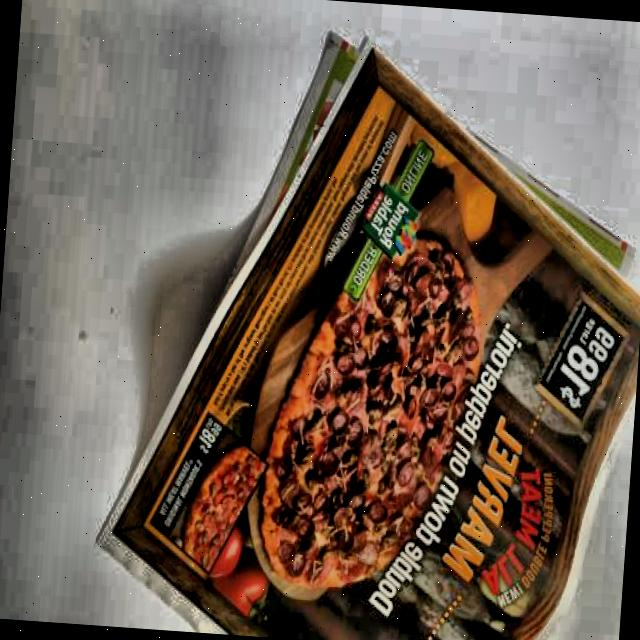paper: (86, 23, 640, 640)
